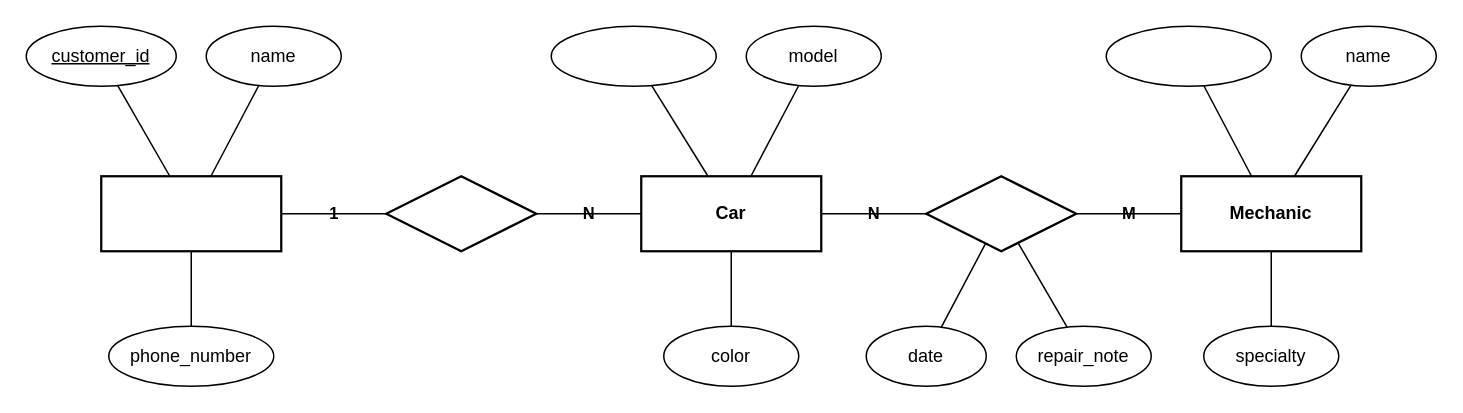
The diagram is 1463 pixels wide and 413 high, and some of its shapes have lost their labels. The shapes that lost their labels are listed below. From the top down, each one's centre as x and y in pixels, then its label:
(x=633, y=55): plate_number
(x=1188, y=55): mechanic_id
(x=190, y=213): Customer
(x=460, y=213): owns
(x=1000, y=213): services
